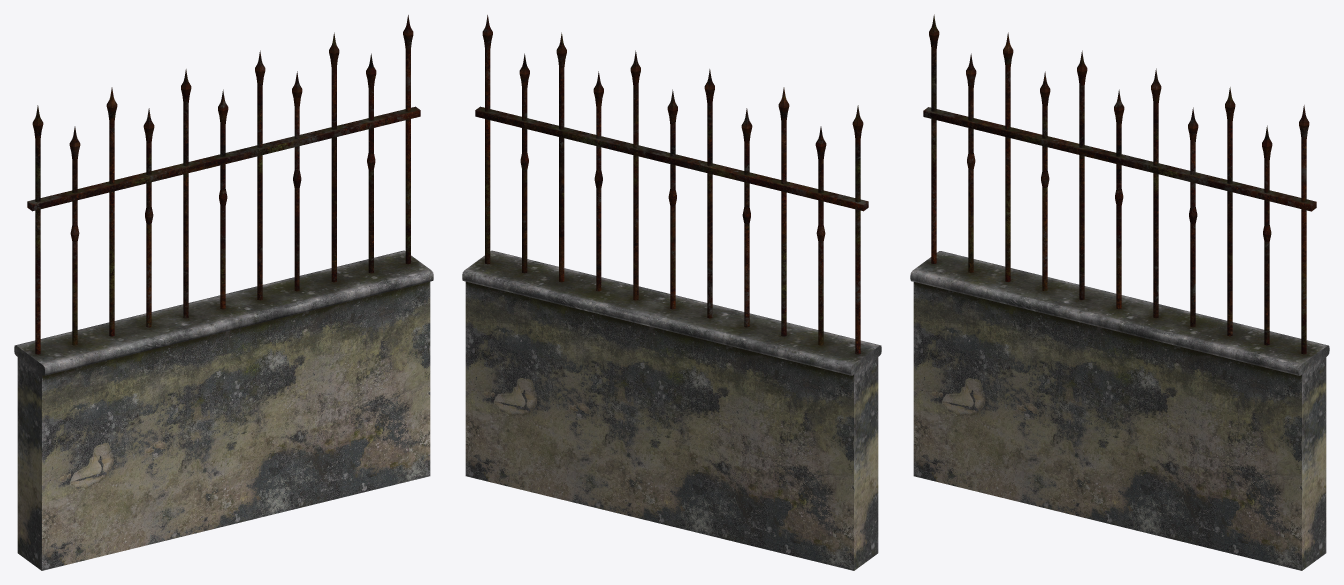
File: SM_fence_24.fbx
3 views of the same model, side by side, from view 1: azimuth 30°, elevation 25°; view 2: azimuth 150°, elevation 25°; view 3: azimuth 330°, elevation 25° (orthographic).
Visible parts, largest first — view 1: SM_fence_24; view 2: SM_fence_24; view 3: SM_fence_24.
Part boxes in pixels (x1,y1,x2,y2): SM_fence_24: (14,15,433,570); SM_fence_24: (462,15,881,570); SM_fence_24: (910,14,1329,570).
Bounding box in the file's own units: 341 × 382 × 46.92.
